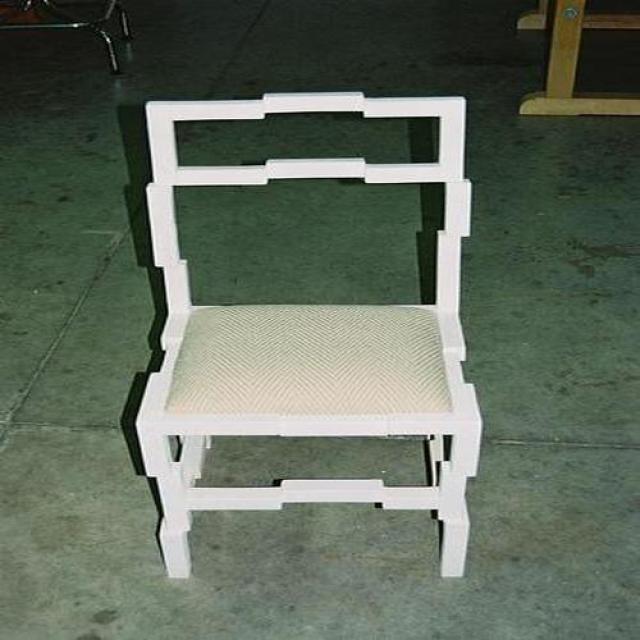chair: (123, 95, 483, 581)
